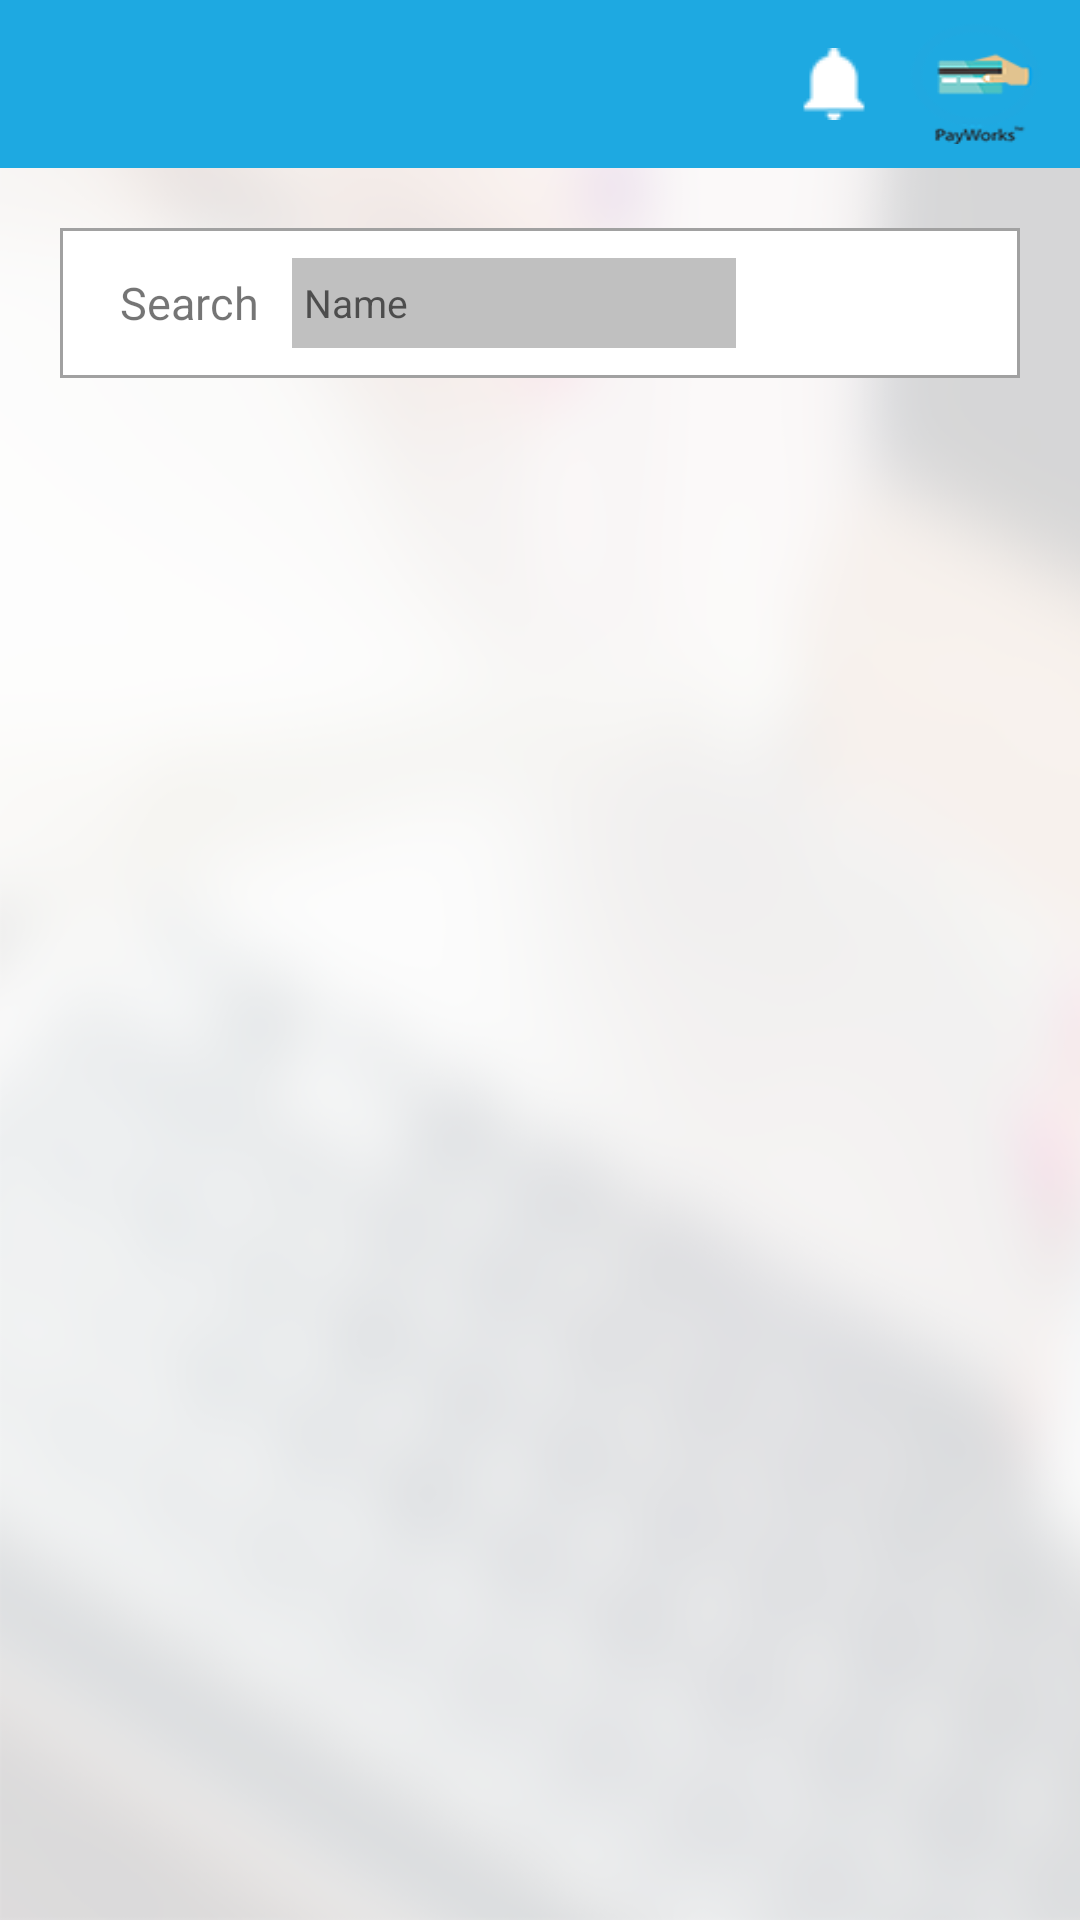

Icons on this 1080w x 1920h Android screen, each with the point to tap as point (x, y):
bell: point (834, 84)
